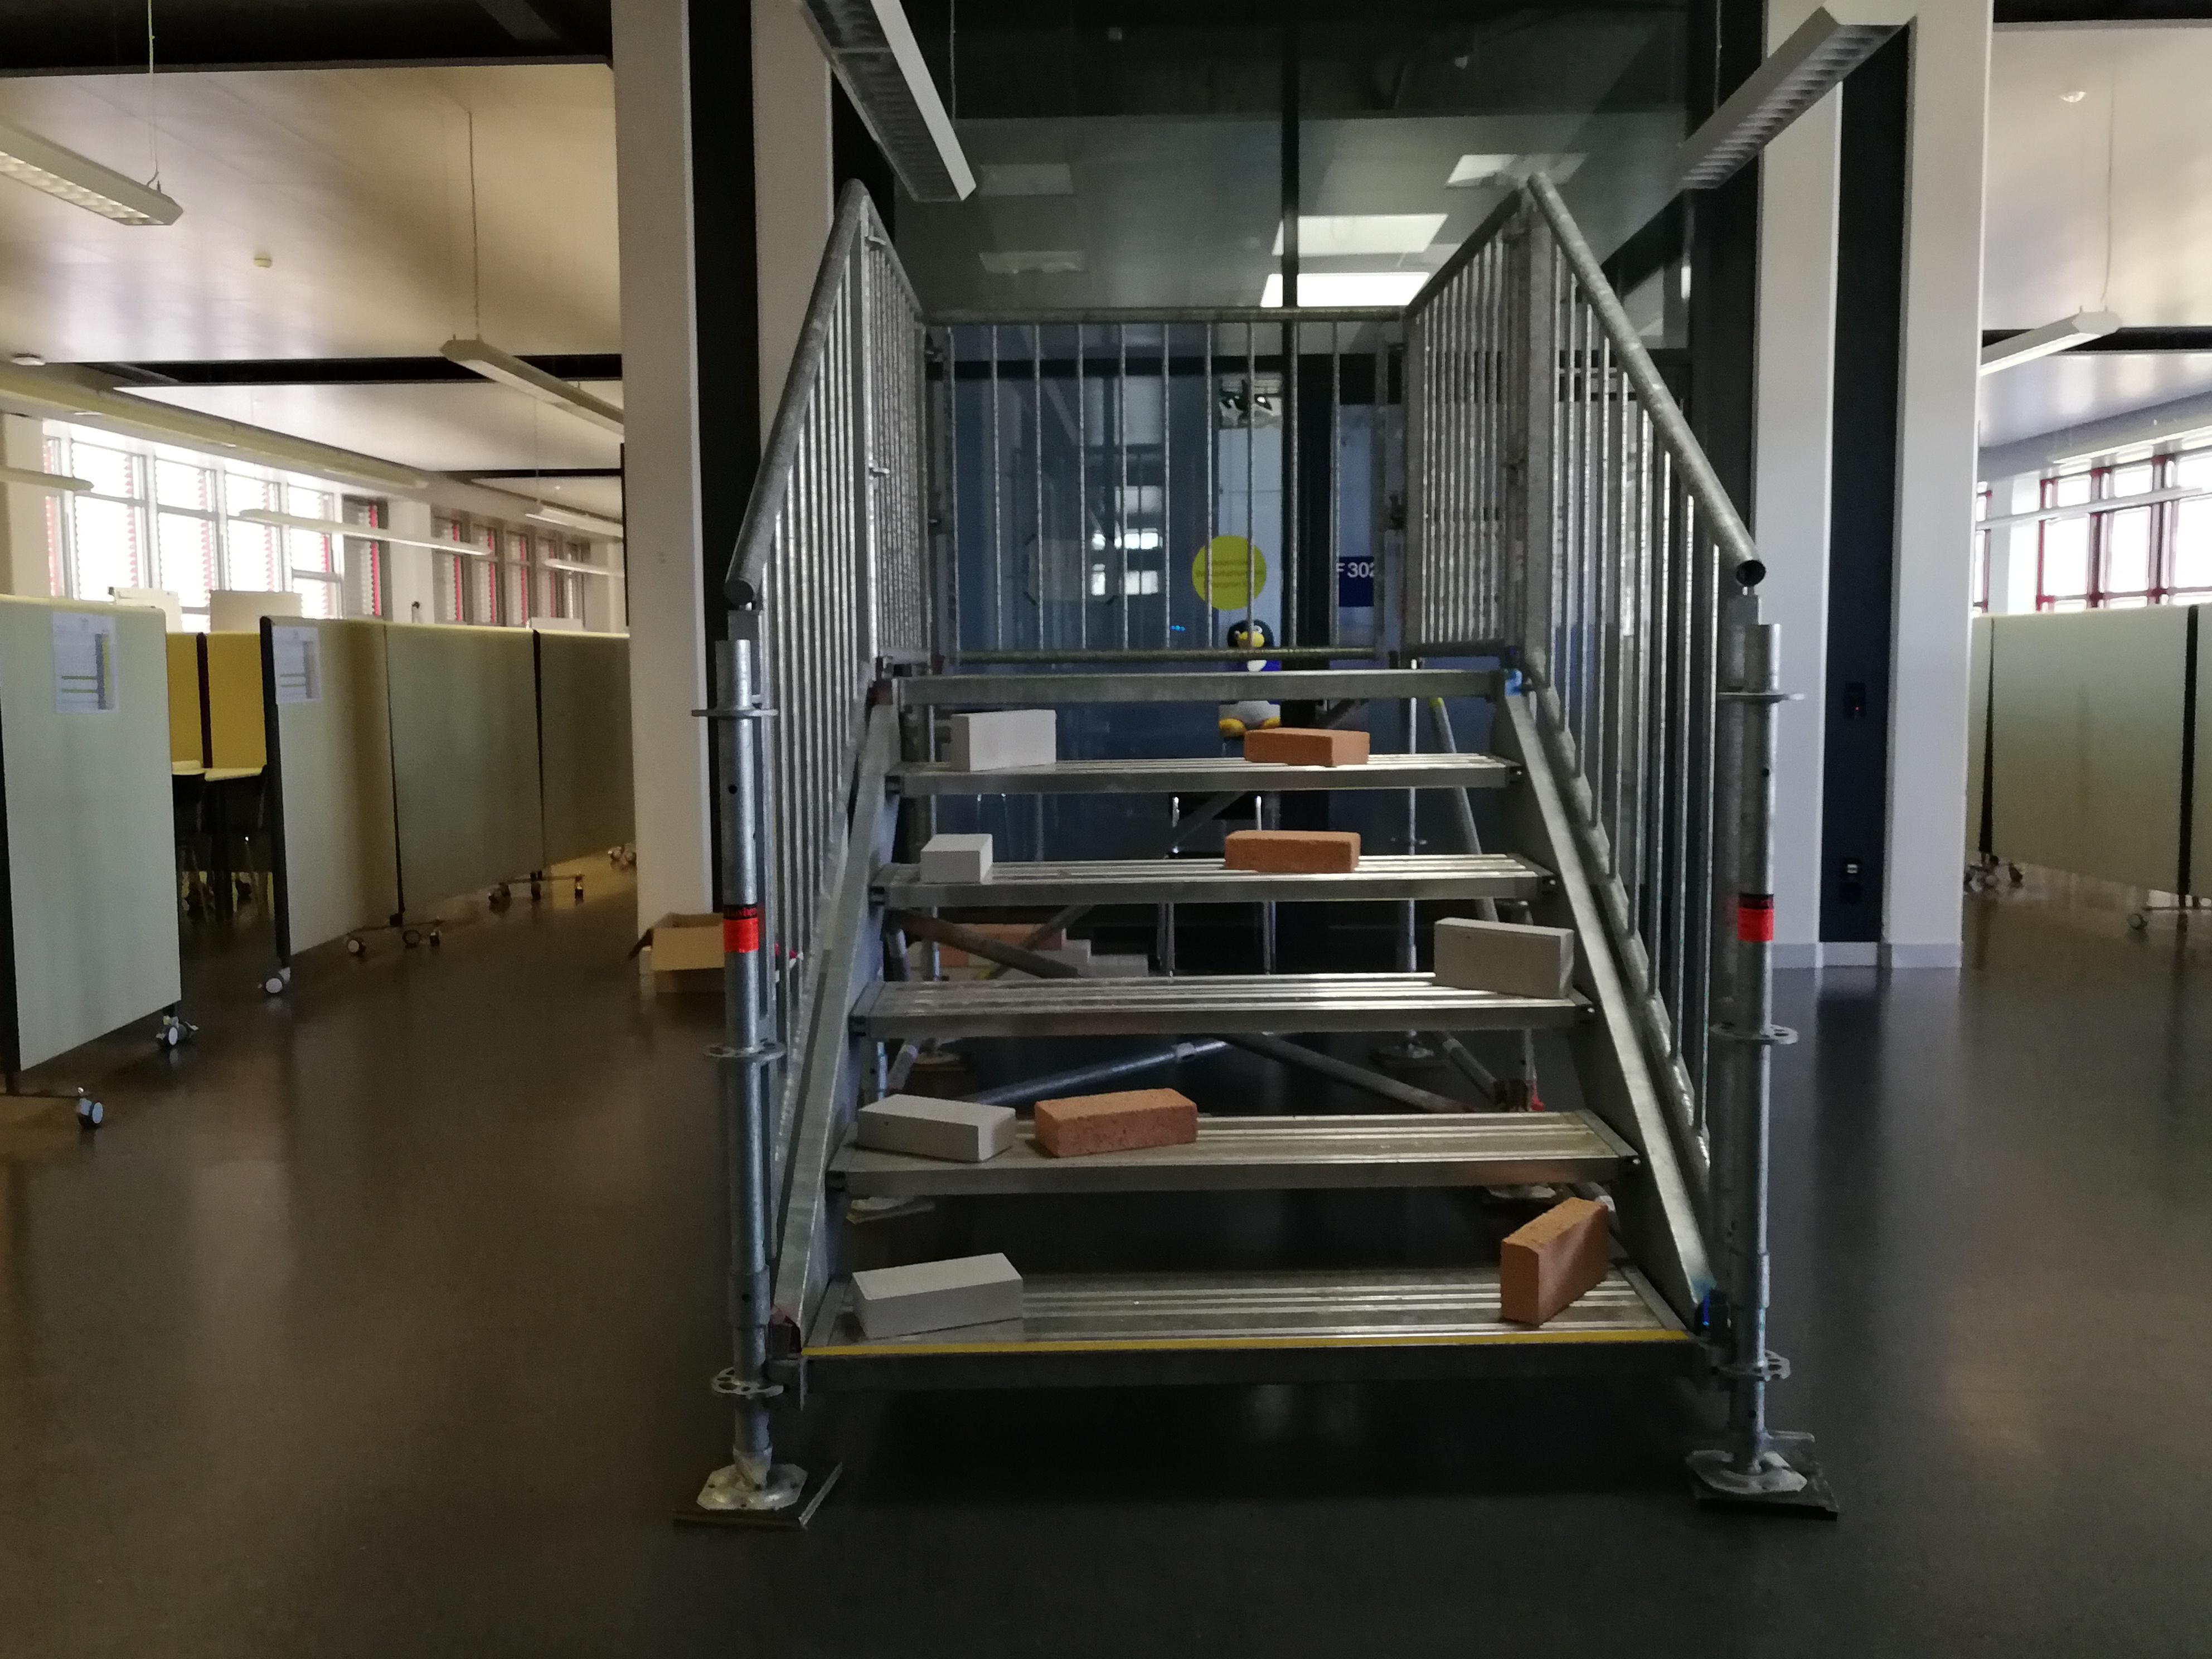brick: (850, 1253, 1024, 1335), (1505, 1195, 1611, 1326), (1035, 1091, 1195, 1155), (855, 1094, 1015, 1159), (1433, 918, 1571, 993), (1223, 829, 1357, 878), (951, 709, 1054, 770), (1245, 725, 1367, 762), (921, 835, 989, 877)
edge: (806, 1337, 1696, 1385), (826, 1154, 1649, 1192), (871, 871, 1559, 906), (845, 1004, 1599, 1035), (899, 671, 1503, 701), (883, 769, 1533, 793)
stairs: (685, 176, 1841, 1541)
steps: (791, 657, 1709, 1403)
